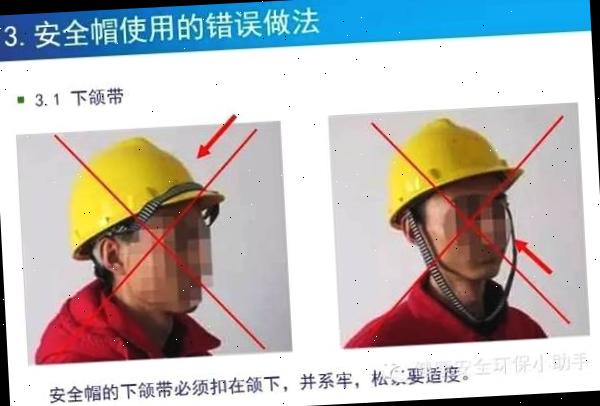helmet: (497, 125, 600, 337), (59, 132, 209, 260), (377, 111, 520, 222)
